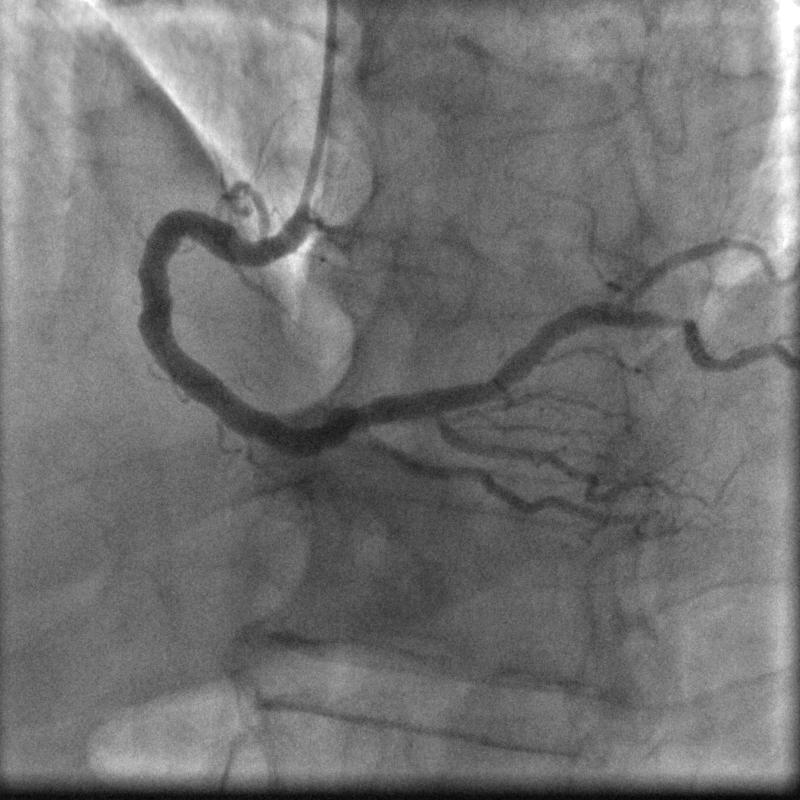Stenosis: (642, 307, 694, 337)
